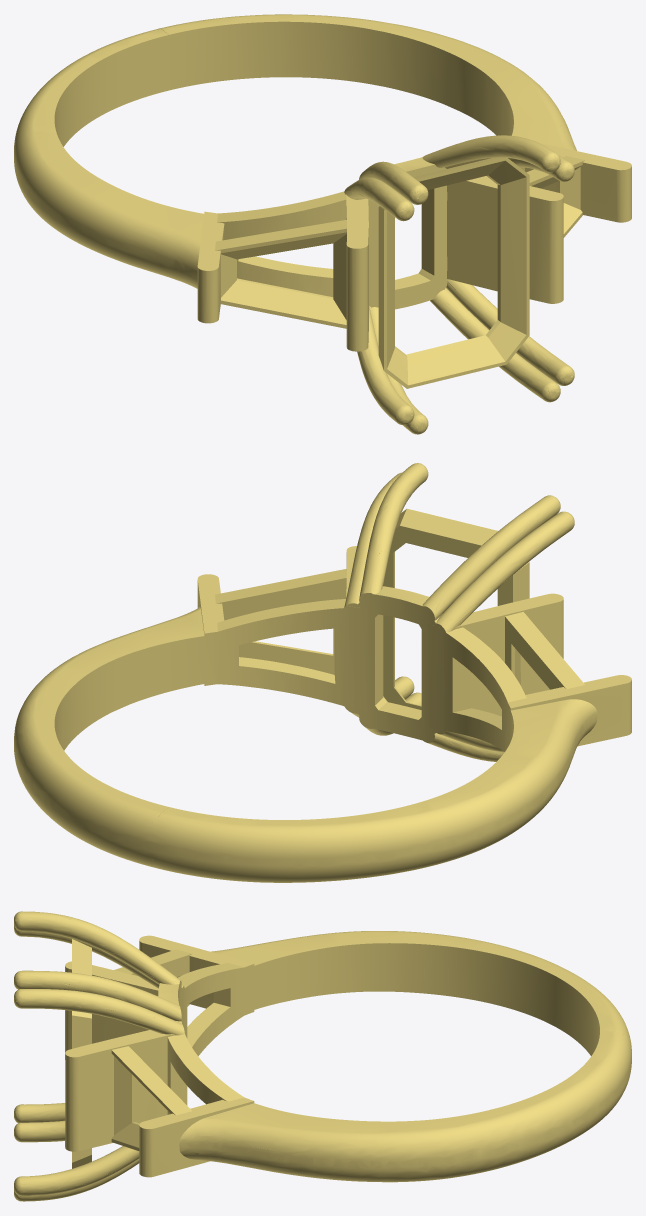
3 views of the same model, one above another, from view 1: azimuth 30°, elevation 25°; view 2: azimuth 150°, elevation 25°; view 3: azimuth 270°, elevation 25° (orthographic). The views are drawn at different scales.
Visible parts, largest first — view 1: lr-0047; view 2: lr-0047; view 3: lr-0047.
Part boxes in pixels (bbox=[...]): lr-0047: bbox=[14, 14, 631, 434]; lr-0047: bbox=[14, 463, 631, 882]; lr-0047: bbox=[14, 911, 631, 1201].
Size of the model in its own units: 0.8294 by 0.4086 by 1.
